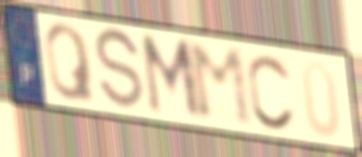0: (299, 58, 342, 141)
C: (246, 51, 298, 133)
M: (184, 41, 256, 130), (137, 32, 204, 125)
Q: (42, 21, 99, 106)
S: (93, 25, 146, 114)
